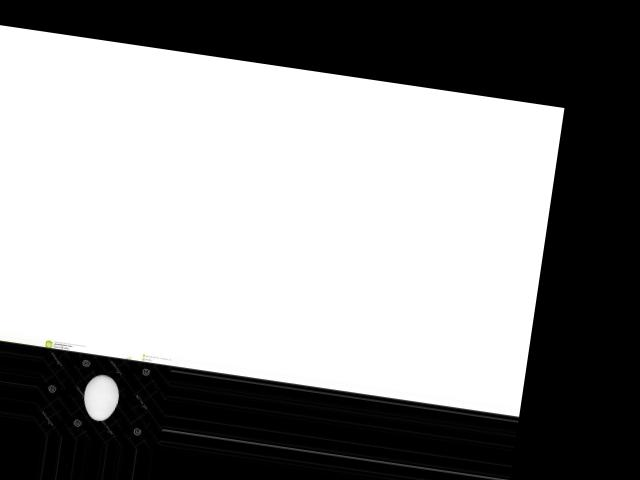egg: (81, 372, 122, 423)
